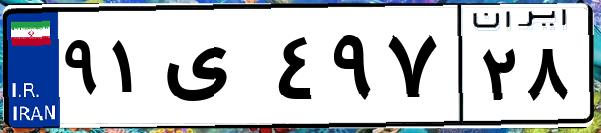1: (110, 28, 158, 98)
2: (475, 38, 525, 113)
4: (270, 28, 330, 110)
7: (385, 28, 445, 110)
8: (525, 38, 570, 115)
9: (330, 28, 385, 110), (57, 26, 110, 100)
ی: (158, 20, 270, 120)
